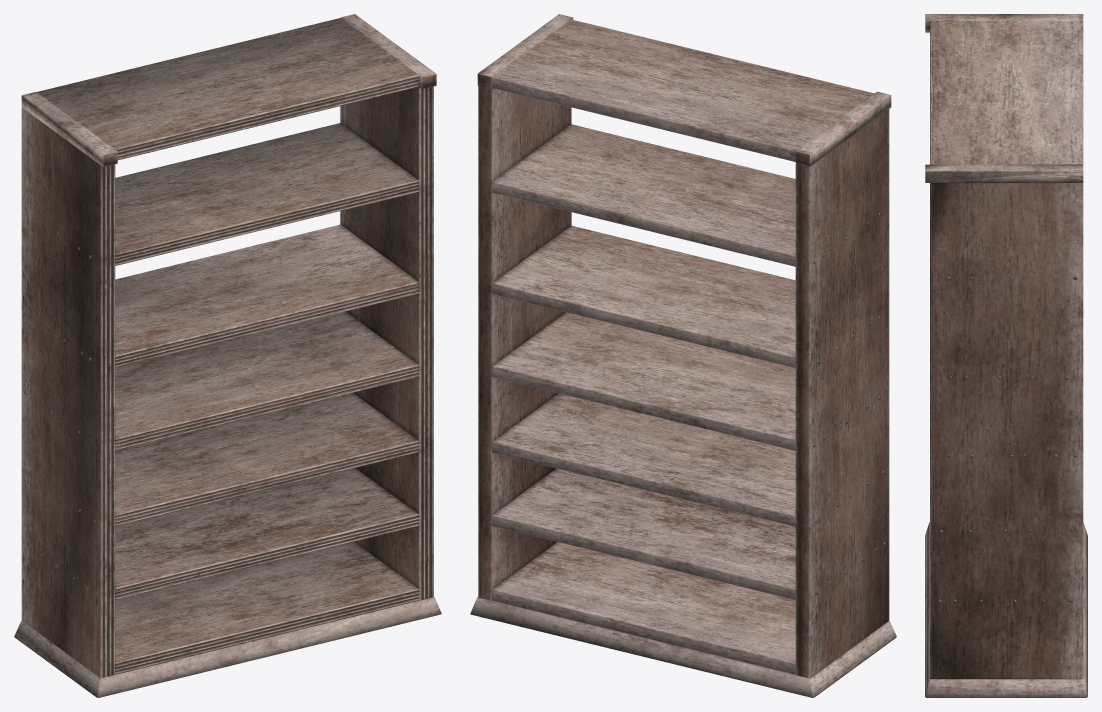
File: wooden_bookshelf_worn.glb
3 renders of one model, left to right at view 1: azimuth 30°, elevation 25°; view 2: azimuth 150°, elevation 25°; view 3: azimuth 270°, elevation 25°, orthographic. The views are drawn at different scales.
Parts seen in each view (by area): view 1: wooden_bookshelf_worn; view 2: wooden_bookshelf_worn; view 3: wooden_bookshelf_worn.
Boxes of the visible parts, <box> form: wooden_bookshelf_worn: <box>14,14,441,697</box>; wooden_bookshelf_worn: <box>470,14,896,697</box>; wooden_bookshelf_worn: <box>925,14,1087,697</box>.
Size of the model in its own units: 1.37 by 2.06 by 0.5813.
1 material, 1 textured.
